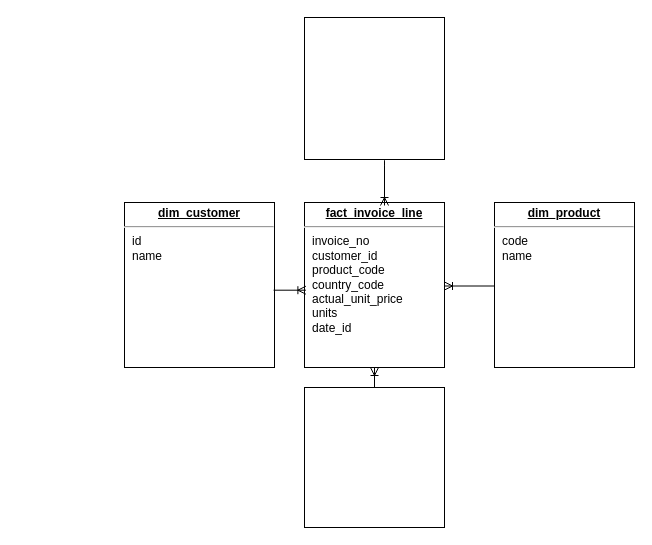
The diagram is 652 pixels wide and 545 high, and some of its shapes have lost their labels. Here are the shapes that lost their labels. From the top down, the centre of each, then its label:
At pixel 374 88: "dim_date id cal_date year month day hour".
At pixel 374 457: "dim_country code name".
